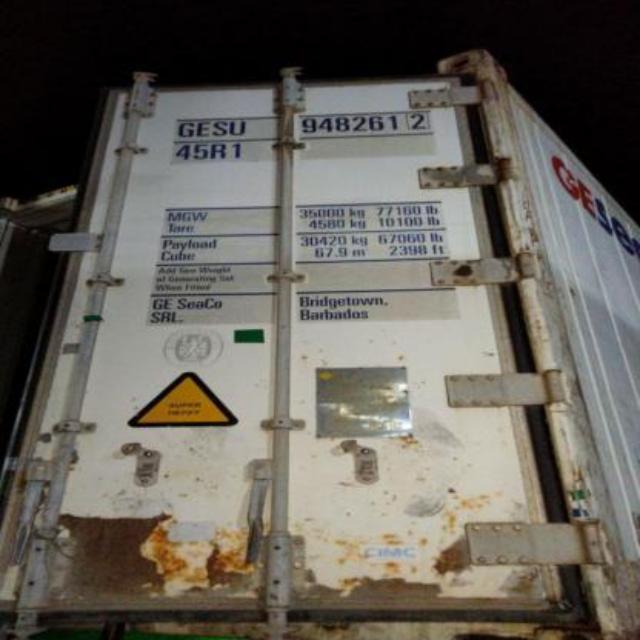1: (385, 109, 401, 135)
2: (408, 108, 434, 136), (349, 111, 367, 135)
4: (316, 115, 334, 139)
6: (369, 112, 387, 134)
8: (334, 113, 350, 137)
9: (299, 112, 315, 138)
E: (198, 118, 212, 138)
G: (174, 116, 196, 140)
S: (210, 110, 230, 140)
U: (227, 115, 253, 138)
